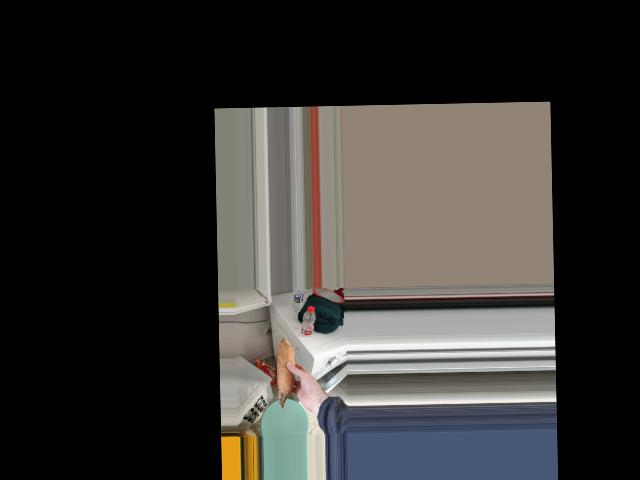sweet_potato: (275, 343, 300, 409)
